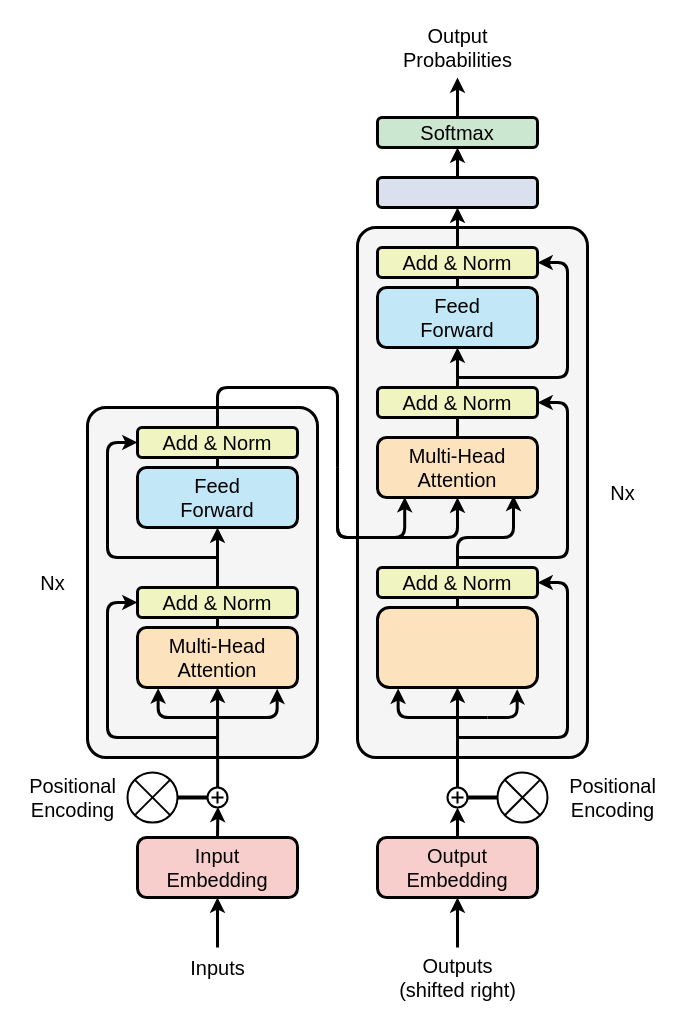
This 684x1024 diagram has some shape labels left out. Each missing label, with the centre of its shape:
Linear: the point at 457,192
Masked Multi-Head Attention: the point at 457,647
